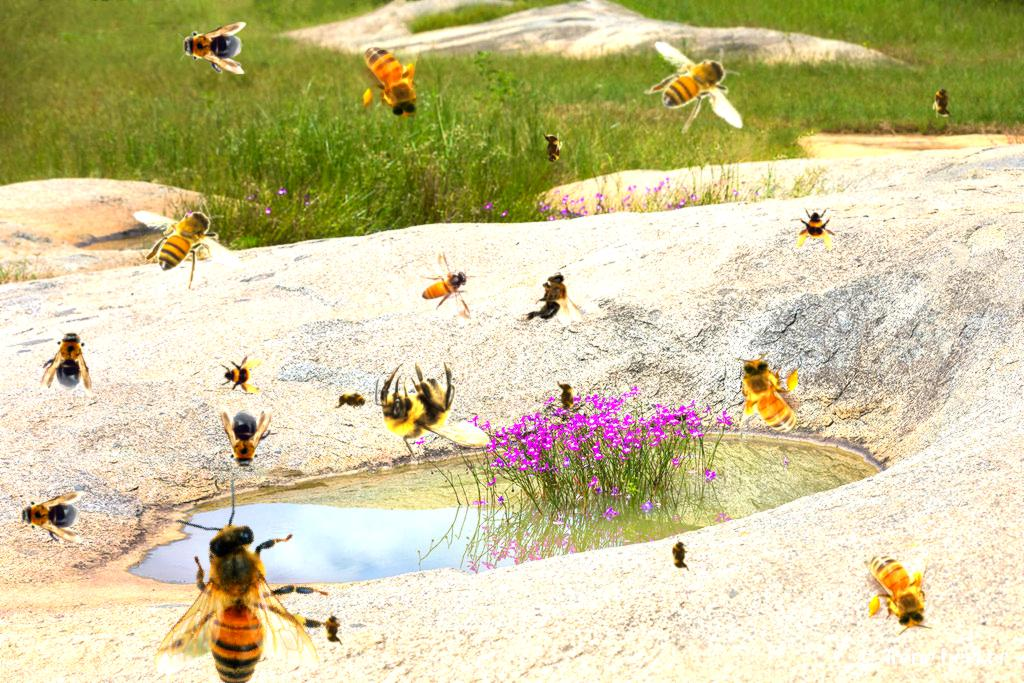Bee: (102, 463, 379, 683), (629, 26, 766, 152), (375, 359, 490, 466), (133, 197, 244, 291), (358, 33, 426, 126), (865, 542, 933, 635), (734, 352, 802, 445), (39, 325, 97, 397), (421, 249, 471, 320), (16, 491, 84, 543), (220, 405, 272, 473), (178, 22, 246, 74), (521, 272, 583, 325), (795, 207, 839, 251), (219, 352, 263, 396), (330, 387, 374, 415), (322, 609, 344, 649), (932, 82, 954, 122), (541, 129, 563, 169), (669, 535, 691, 575), (555, 377, 577, 417)
